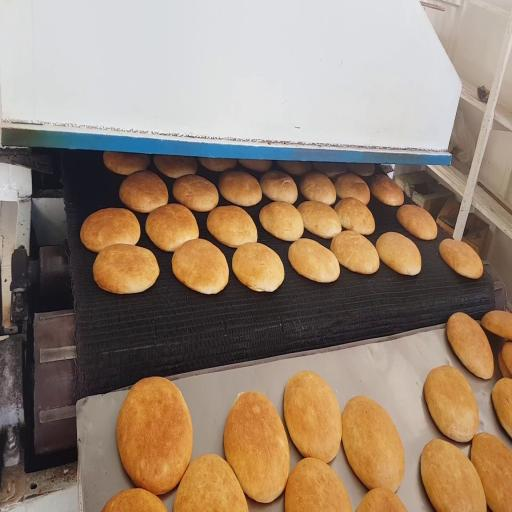bread: (116, 377, 192, 494), (224, 392, 289, 502), (342, 396, 405, 492), (284, 371, 341, 462), (421, 439, 486, 511), (173, 454, 248, 511), (424, 366, 478, 442), (285, 458, 352, 511), (93, 244, 159, 294), (447, 312, 494, 379), (471, 433, 511, 511), (172, 239, 228, 294), (80, 208, 140, 252), (232, 242, 284, 292), (146, 204, 198, 251), (288, 238, 339, 282), (331, 230, 379, 274), (207, 206, 257, 247), (119, 171, 168, 212), (376, 232, 421, 275), (439, 239, 483, 279), (259, 202, 303, 241), (173, 175, 218, 211), (298, 201, 341, 238), (334, 198, 375, 235), (219, 171, 262, 206), (102, 489, 166, 511), (397, 205, 437, 240), (300, 172, 336, 205), (260, 171, 297, 203), (356, 488, 407, 511), (492, 378, 511, 437), (334, 173, 370, 204), (103, 152, 150, 175), (371, 175, 403, 206), (154, 156, 197, 178), (482, 311, 511, 338), (199, 158, 236, 172), (313, 162, 346, 177), (498, 341, 511, 377), (278, 161, 311, 175), (239, 160, 271, 172), (346, 163, 374, 176), (498, 352, 511, 378)
